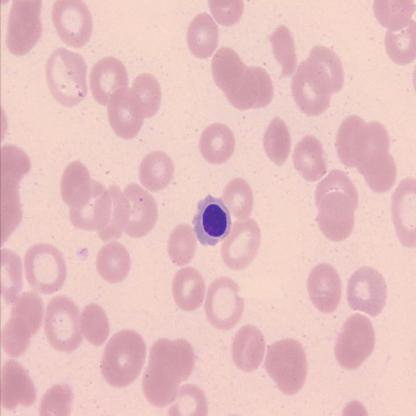NRC: (191, 191, 232, 246)
